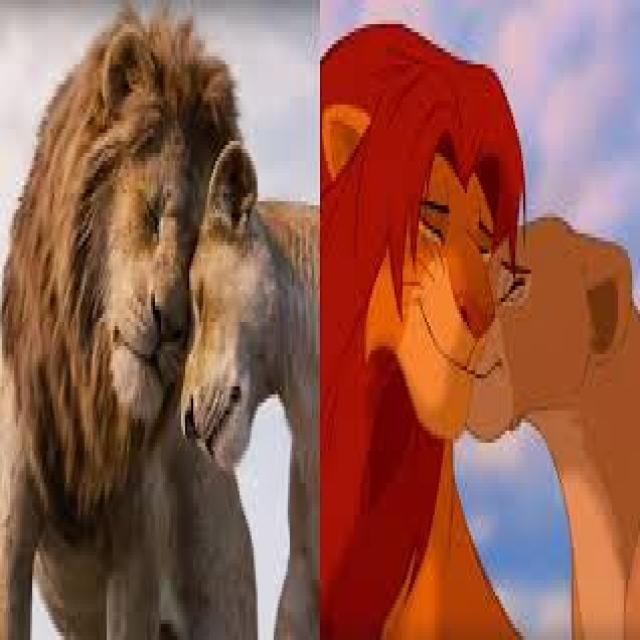Lion: (0, 11, 318, 636)
